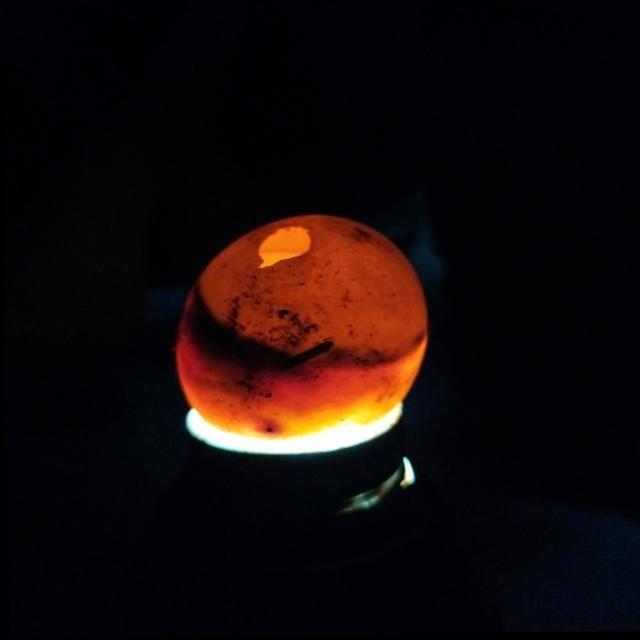Area Infectada: (183, 283, 423, 378)
